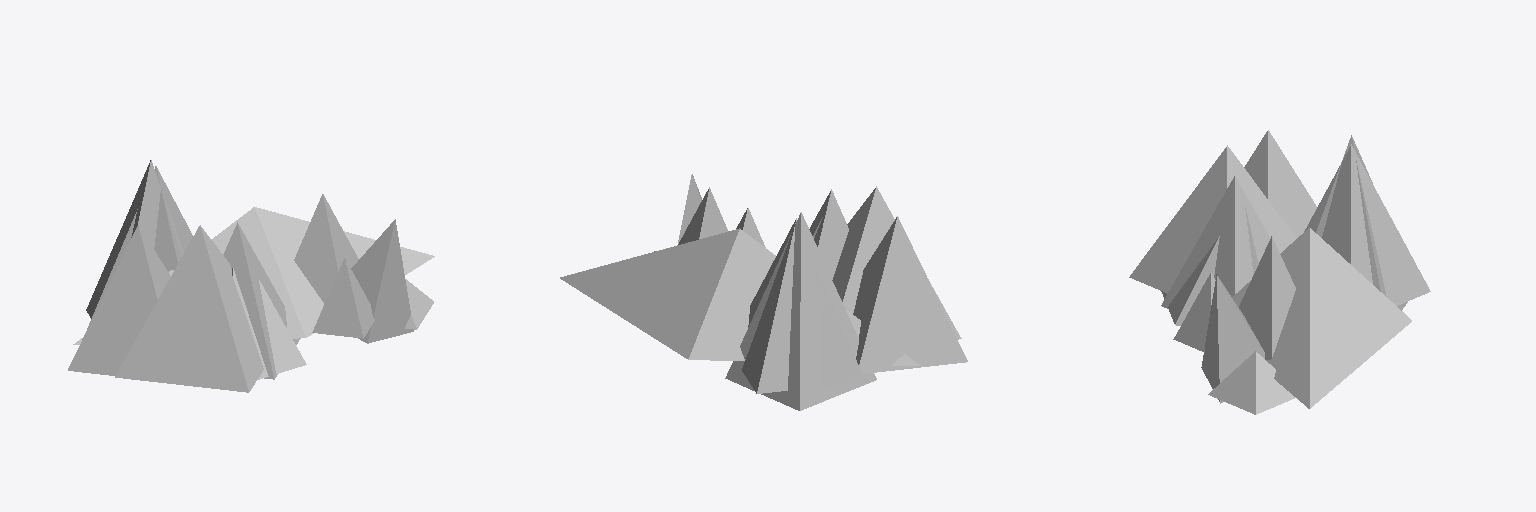
File: mountains_2.obj
3 renders of one model, left to right at view 1: azimuth 30°, elevation 25°; view 2: azimuth 150°, elevation 25°; view 3: azimuth 270°, elevation 25°, orthographic.
Visible parts, largest first — view 1: pPyramid9 group1, group1 pPyramid26, group1 pPyramid10, group1 pPyramid15, group1 pPyramid17, group1 pPyramid11, group1 pPyramid12, group1 pPyramid25, group1 pPyramid24, group1 pPyramid23, group1 pPyramid16; view 2: group1 pPyramid10, group1 pPyramid26, group1 pPyramid25, group1 pPyramid24, pPyramid9 group1, group1 pPyramid11, group1 pPyramid17, group1 pPyramid15; view 3: group1 pPyramid10, group1 pPyramid24, pPyramid9 group1, group1 pPyramid11, group1 pPyramid17, group1 pPyramid15, group1 pPyramid26, group1 pPyramid16, group1 pPyramid23, group1 pPyramid12, group1 pPyramid25.
Part boxes in pixels (bbox=[...]): pPyramid9 group1: bbox=[115, 225, 263, 392]; group1 pPyramid26: bbox=[68, 225, 170, 375]; group1 pPyramid10: bbox=[73, 207, 434, 344]; group1 pPyramid15: bbox=[351, 219, 413, 343]; group1 pPyramid17: bbox=[294, 194, 358, 303]; group1 pPyramid11: bbox=[223, 222, 300, 379]; group1 pPyramid12: bbox=[312, 258, 374, 338]; group1 pPyramid25: bbox=[86, 160, 183, 318]; group1 pPyramid24: bbox=[87, 166, 192, 328]; group1 pPyramid23: bbox=[232, 268, 306, 379]; group1 pPyramid16: bbox=[405, 279, 433, 329]; group1 pPyramid10: bbox=[560, 228, 919, 365]; group1 pPyramid26: bbox=[853, 216, 967, 373]; group1 pPyramid25: bbox=[725, 212, 876, 410]; group1 pPyramid24: bbox=[742, 218, 864, 393]; pPyramid9 group1: bbox=[832, 186, 961, 339]; group1 pPyramid11: bbox=[809, 189, 848, 279]; group1 pPyramid17: bbox=[678, 187, 727, 244]; group1 pPyramid15: bbox=[678, 174, 701, 243]; group1 pPyramid10: bbox=[1232, 227, 1411, 408]; group1 pPyramid24: bbox=[1304, 144, 1430, 305]; pPyramid9 group1: bbox=[1129, 145, 1296, 293]; group1 pPyramid11: bbox=[1161, 176, 1270, 308]; group1 pPyramid17: bbox=[1239, 236, 1295, 359]; group1 pPyramid15: bbox=[1201, 274, 1264, 403]; group1 pPyramid26: bbox=[1244, 130, 1316, 237]; group1 pPyramid16: bbox=[1208, 351, 1295, 414]; group1 pPyramid23: bbox=[1161, 207, 1258, 325]; group1 pPyramid12: bbox=[1173, 272, 1215, 352]; group1 pPyramid25: bbox=[1316, 135, 1407, 310].
Bounding box in the file's own units: 18.15 × 7.81 × 12.21.